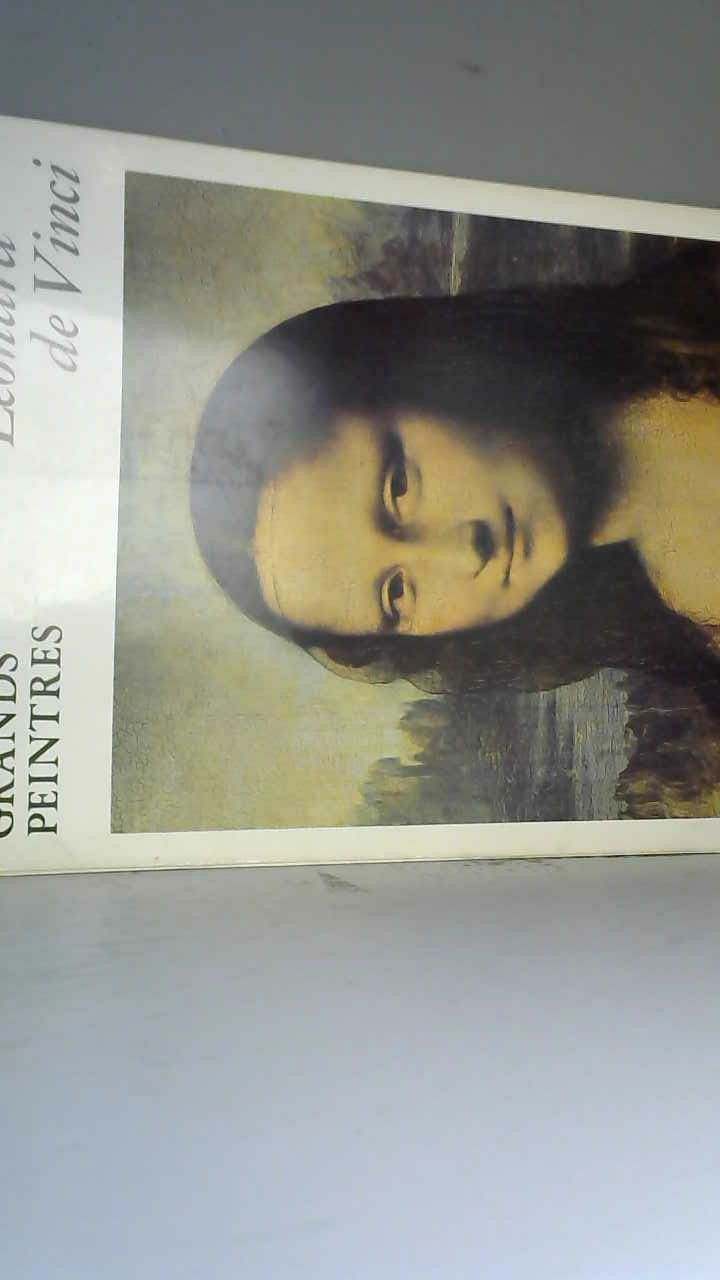book: (0, 107, 720, 895)
